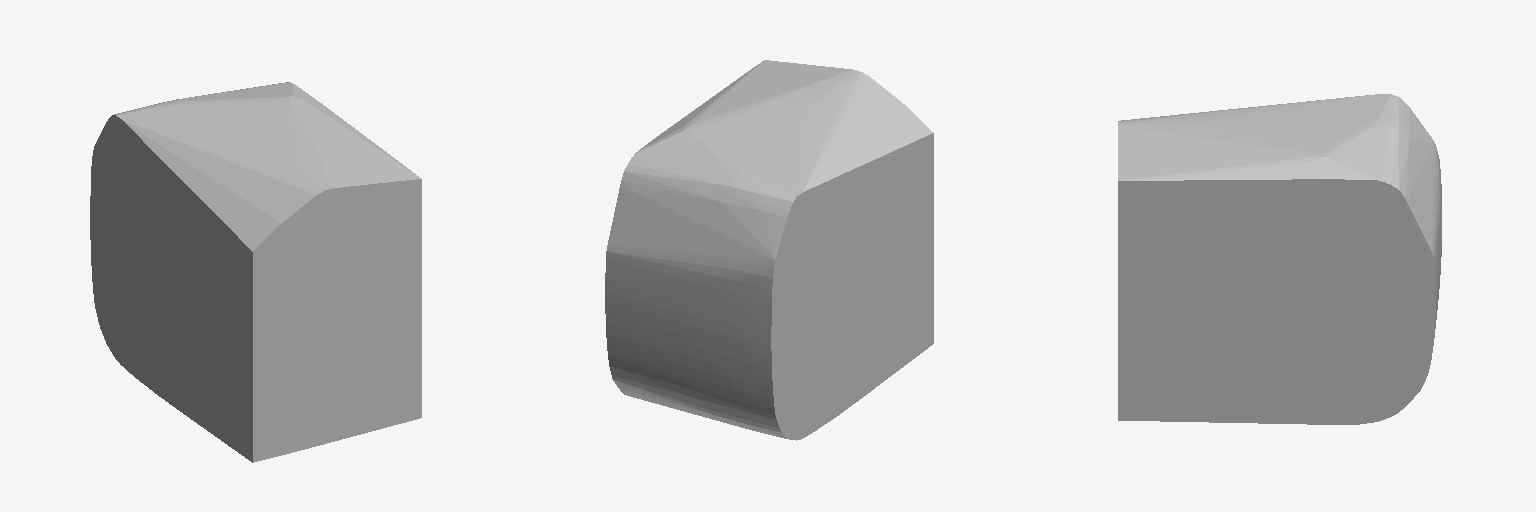
The model's file is Multimeter_collision_6.obj.
The picture shows the model from 3 angles: view 1: azimuth 30°, elevation 25°; view 2: azimuth 150°, elevation 25°; view 3: azimuth 270°, elevation 25°; orthographic projection.
Size of the model in its own units: 22.71 by 33.03 by 37.76.